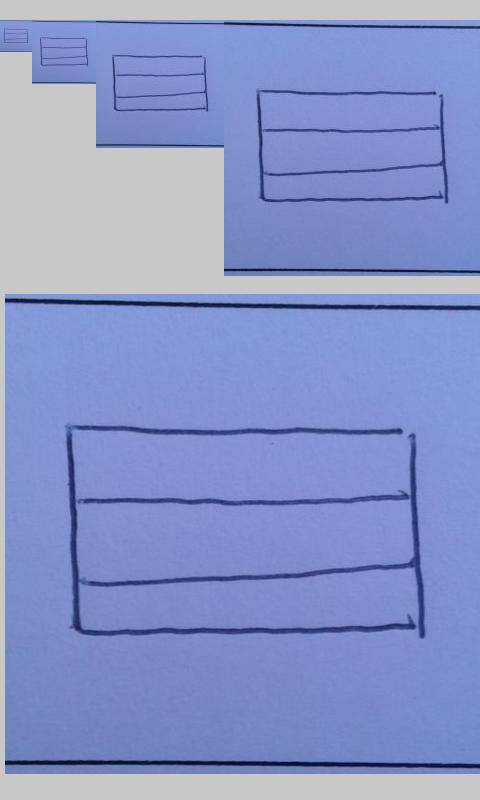list_view: (62, 419, 429, 641), (255, 87, 449, 205), (111, 53, 210, 113), (39, 36, 89, 67), (3, 28, 29, 44)
